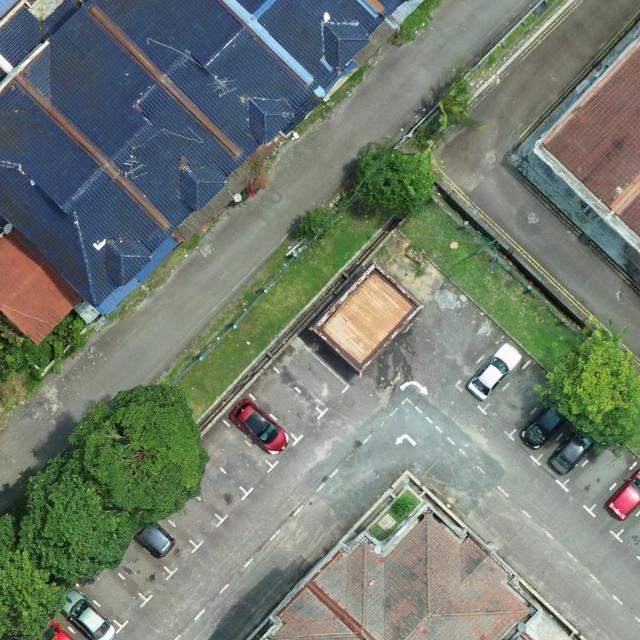Tree: (68, 382, 212, 526), (17, 453, 135, 587), (532, 328, 640, 446), (0, 513, 68, 640), (353, 141, 435, 212), (438, 76, 488, 132), (297, 208, 339, 244)
